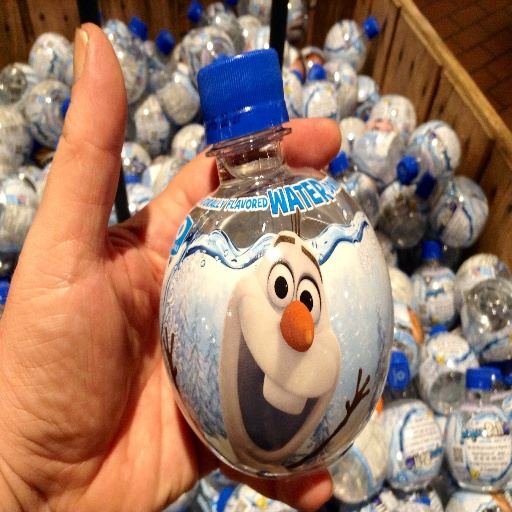hand: (0, 18, 340, 511)
